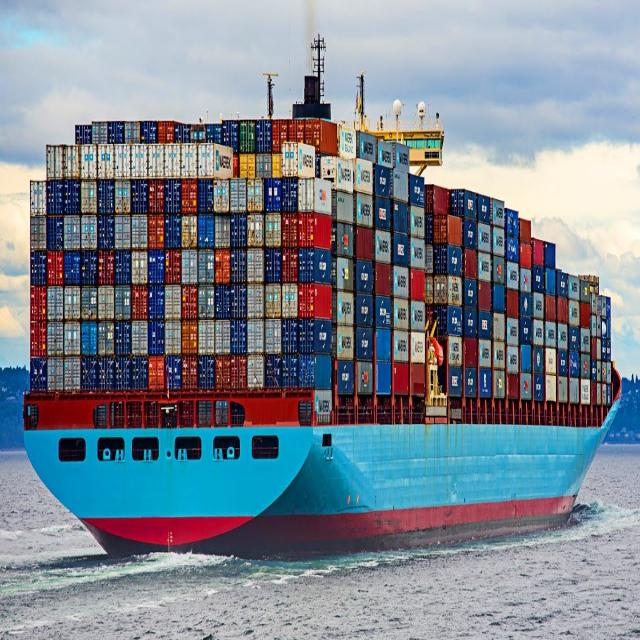boat: (14, 30, 626, 570)
